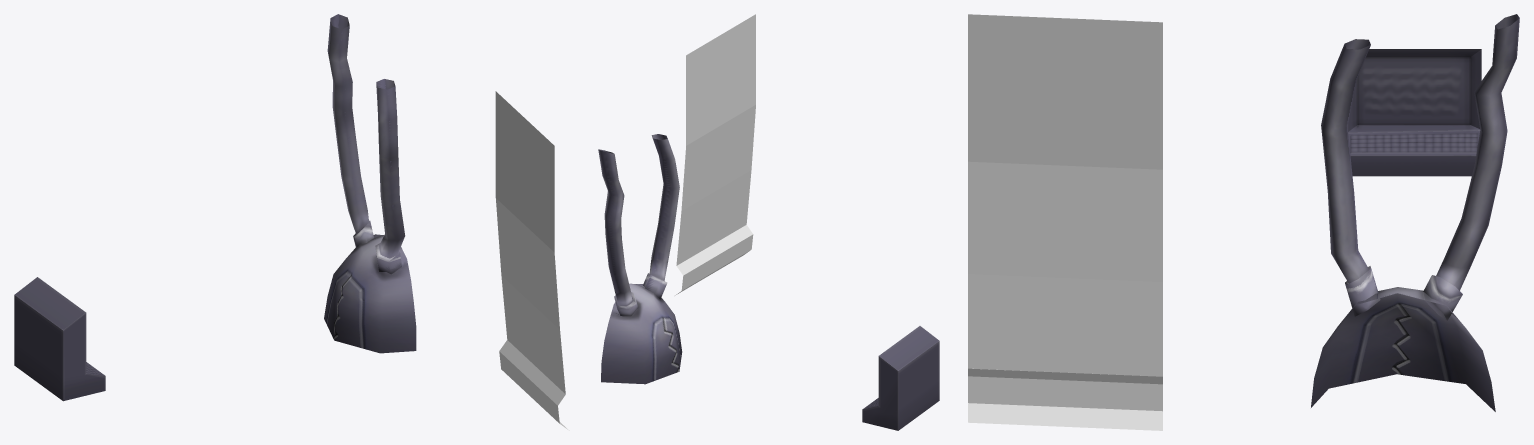
The model's file is objetos cenario.fbx.
3 renders of one model, left to right at view 1: azimuth 30°, elevation 25°; view 2: azimuth 150°, elevation 25°; view 3: azimuth 270°, elevation 25°, orthographic. The views are drawn at different scales.
Visible parts, largest first — view 1: Cenario, Entrada, PC(Entrada); view 2: Cenario, Entrada, PC(Entrada); view 3: Cenario, Entrada, PC(Entrada).
Part boxes in pixels (x1=…): Cenario: x1=495, y1=91, x2=569, y2=430; Entrada: x1=324, y1=14, x2=416, y2=353; PC(Entrada): x1=14, y1=277, x2=105, y2=401; Cenario: x1=675, y1=14, x2=755, y2=295; Entrada: x1=598, y1=134, x2=682, y2=384; PC(Entrada): x1=862, y1=326, x2=939, y2=430; Cenario: x1=968, y1=14, x2=1162, y2=430; Entrada: x1=1311, y1=14, x2=1519, y2=411; PC(Entrada): x1=1347, y1=49, x2=1481, y2=176.
Bounding box in the file's own units: 900 × 660 × 818.
